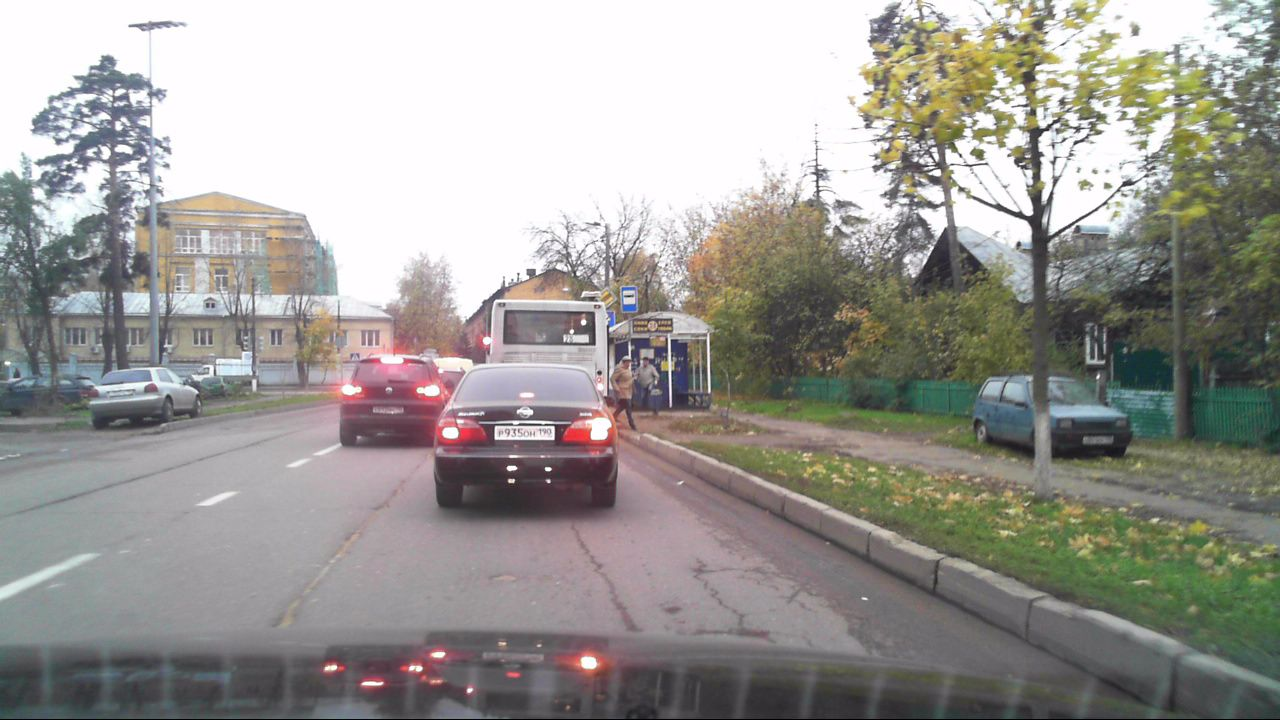main road: (596, 287, 616, 308)
